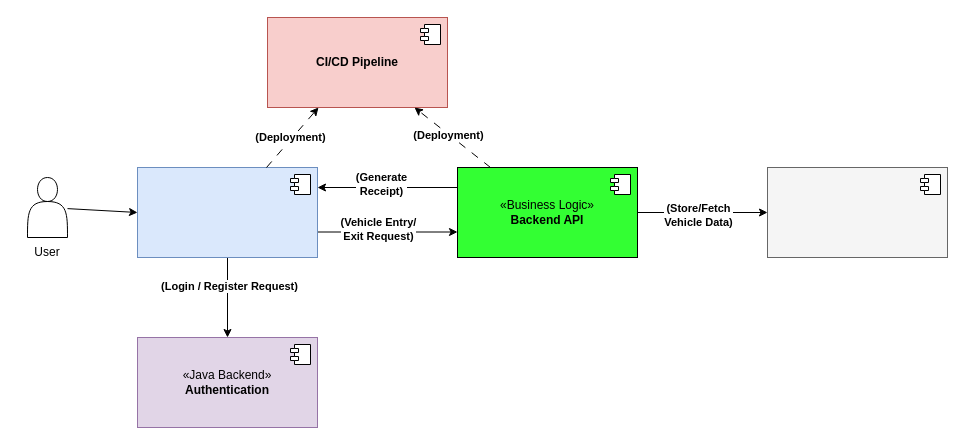
This 965x445 diagram has some shape labels left out. Here are the shapes that lost their labels. From the top down, the centre of each, then its label:
At (227,212): "«User Interface» Frontend UI".
At (857,212): "«MySQL/PostgreSQL» Database".
